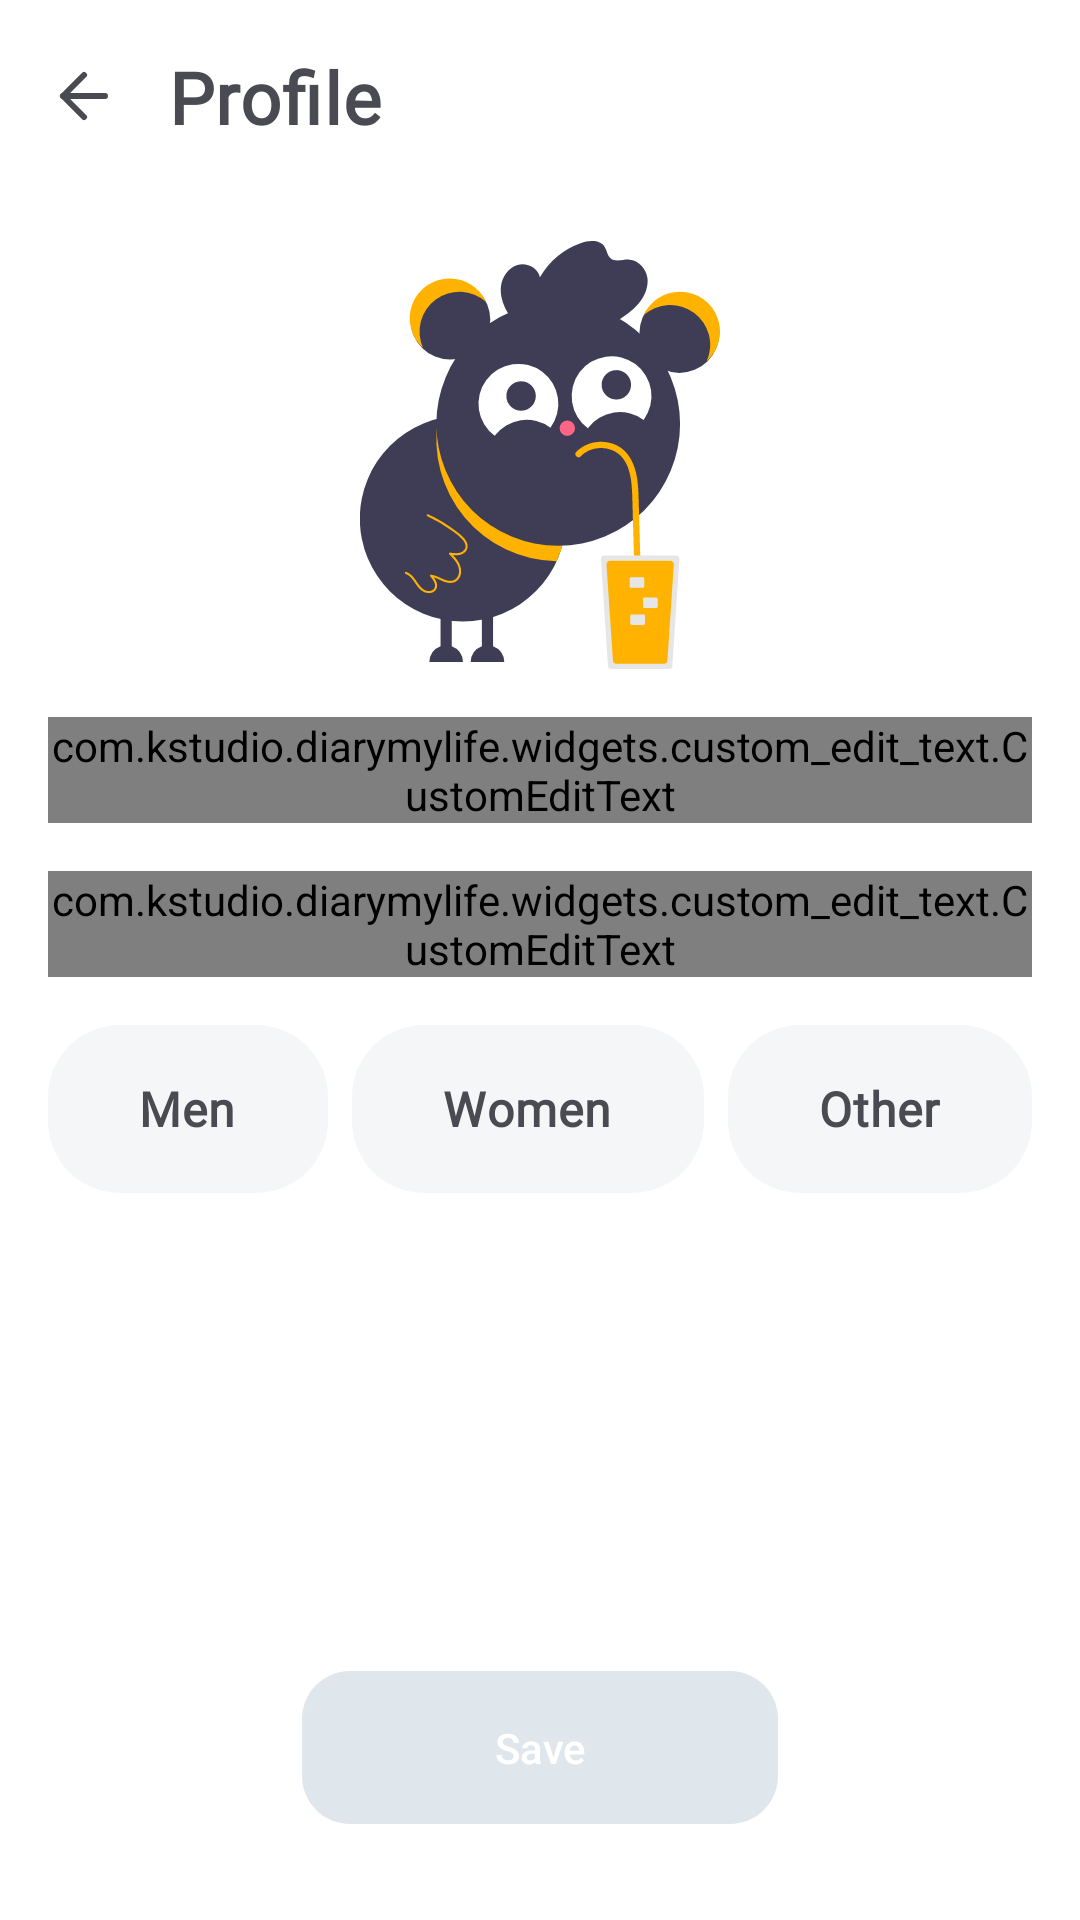

Locate icon controls on the screen. Image size 1080×1920, boxes as (x1, y1, x2, y2).
arrow left: (60, 72, 108, 120)
